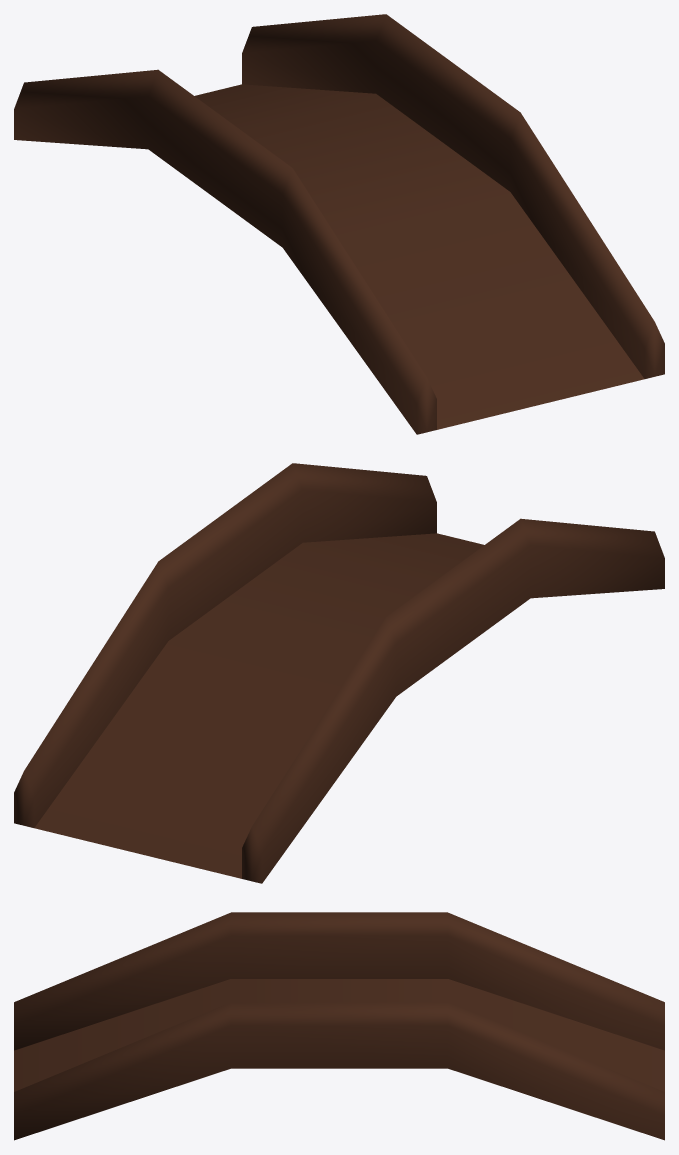
File: bridge.dae
3 views of the same model, one above another, from view 1: azimuth 30°, elevation 25°; view 2: azimuth 150°, elevation 25°; view 3: azimuth 270°, elevation 25° (orthographic). The views are drawn at different scales.
Parts seen in each view (by area): view 1: bridge-col; view 2: bridge-col; view 3: bridge-col.
Boxes of the visible parts, bbox=[...] form: bridge-col: bbox=[14, 14, 664, 434]; bridge-col: bbox=[14, 463, 664, 883]; bridge-col: bbox=[14, 912, 664, 1140].
Size of the model in its own units: 1.6 by 4.5 by 1.02.
